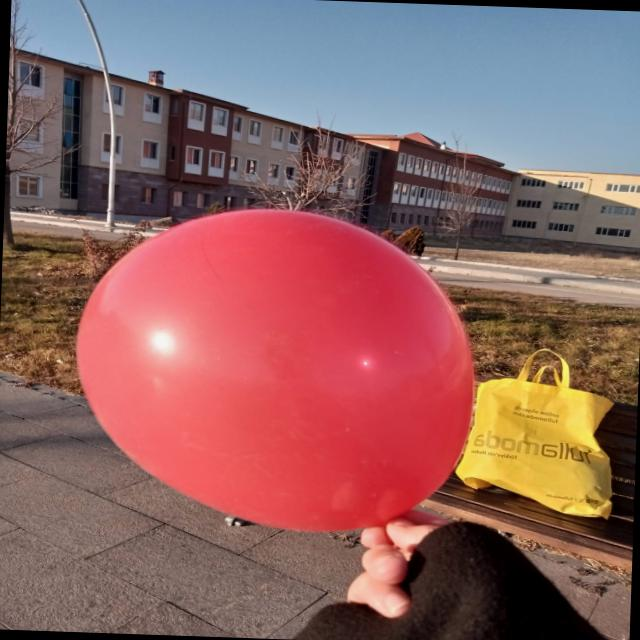balloon: (76, 208, 473, 531)
